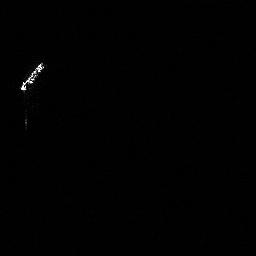ship: (16, 59, 48, 94)
